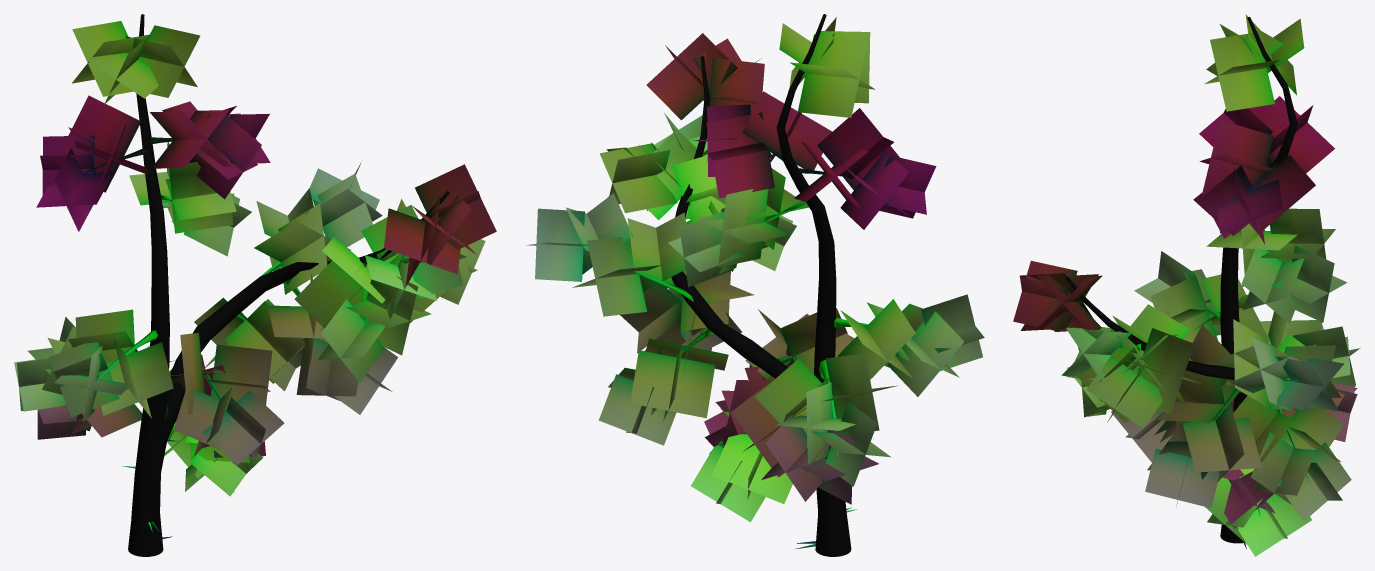
File: URP_P7_Tree_15_LOD_1.fbx
3 renders of one model, left to right at view 1: azimuth 30°, elevation 25°; view 2: azimuth 150°, elevation 25°; view 3: azimuth 270°, elevation 25°, orthographic. The views are drawn at different scales.
Parts seen in each view (by area): view 1: Tree_15_LOD_1; view 2: Tree_15_LOD_1; view 3: Tree_15_LOD_1.
Boxes of the visible parts, bbox=[...] form: Tree_15_LOD_1: bbox=[14, 14, 496, 556]; Tree_15_LOD_1: bbox=[526, 14, 984, 556]; Tree_15_LOD_1: bbox=[1013, 14, 1360, 556].
Size of the model in its own units: 392 by 493 by 299.
